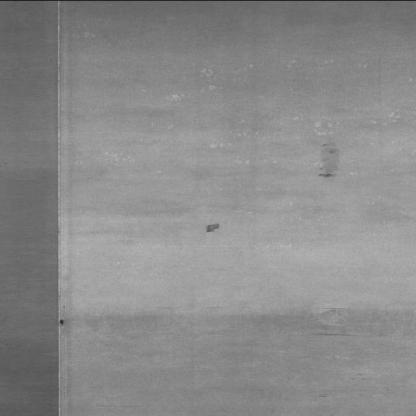welding_line: (50, 0, 74, 413)
